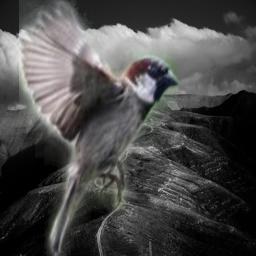Sparrow: (19, 0, 178, 256)
